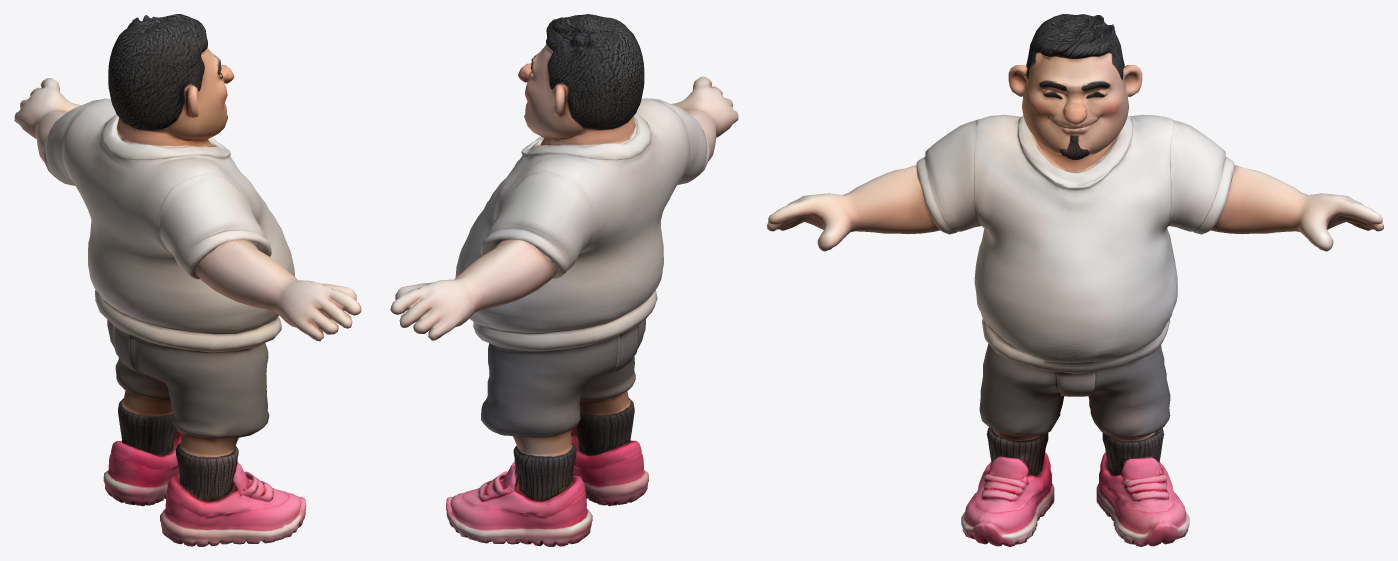
3 renders of one model, left to right at view 1: azimuth 30°, elevation 25°; view 2: azimuth 150°, elevation 25°; view 3: azimuth 270°, elevation 25°, orthographic. The views are drawn at different scales.
Parts seen in each view (by area): view 1: tripo_node_98a39c8f; view 2: tripo_node_98a39c8f; view 3: tripo_node_98a39c8f.
Boxes of the visible parts, <box> form: tripo_node_98a39c8f: <box>14,14,361,546</box>; tripo_node_98a39c8f: <box>390,14,738,546</box>; tripo_node_98a39c8f: <box>767,14,1383,546</box>.
Bounding box in the file's own units: 0.3307 × 0.8669 × 1.
1 material, 1 textured.
